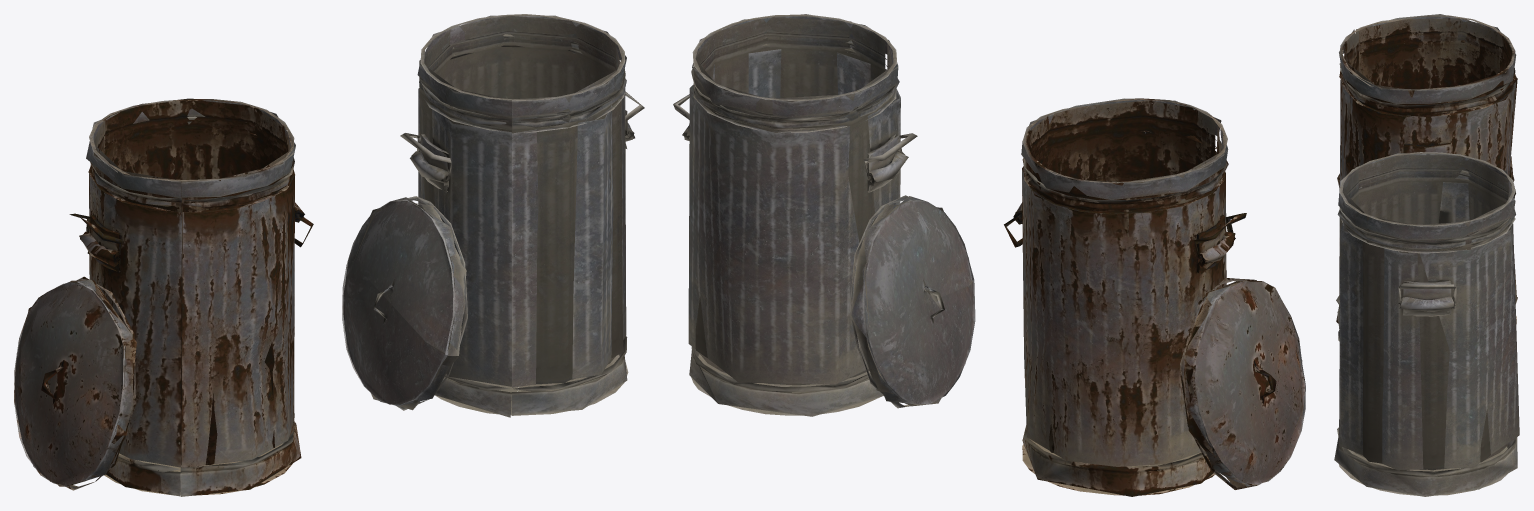
The model's file is trash_can.glb.
The picture shows the model from 3 angles, left to right: view 1: azimuth 30°, elevation 25°; view 2: azimuth 150°, elevation 25°; view 3: azimuth 270°, elevation 25°; orthographic projection. The views are drawn at different scales.
Parts seen in each view (by area): view 1: trash_can; view 2: trash_can; view 3: trash_can.
Part boxes in pixels (x1,y1,x2,y2): trash_can: (14,14,644,496); trash_can: (673,14,1305,496); trash_can: (1334,14,1519,496).
Bounding box in the file's own units: 1.78 × 0.9068 × 0.5671.
Materials: 3 (3 with a texture image).
